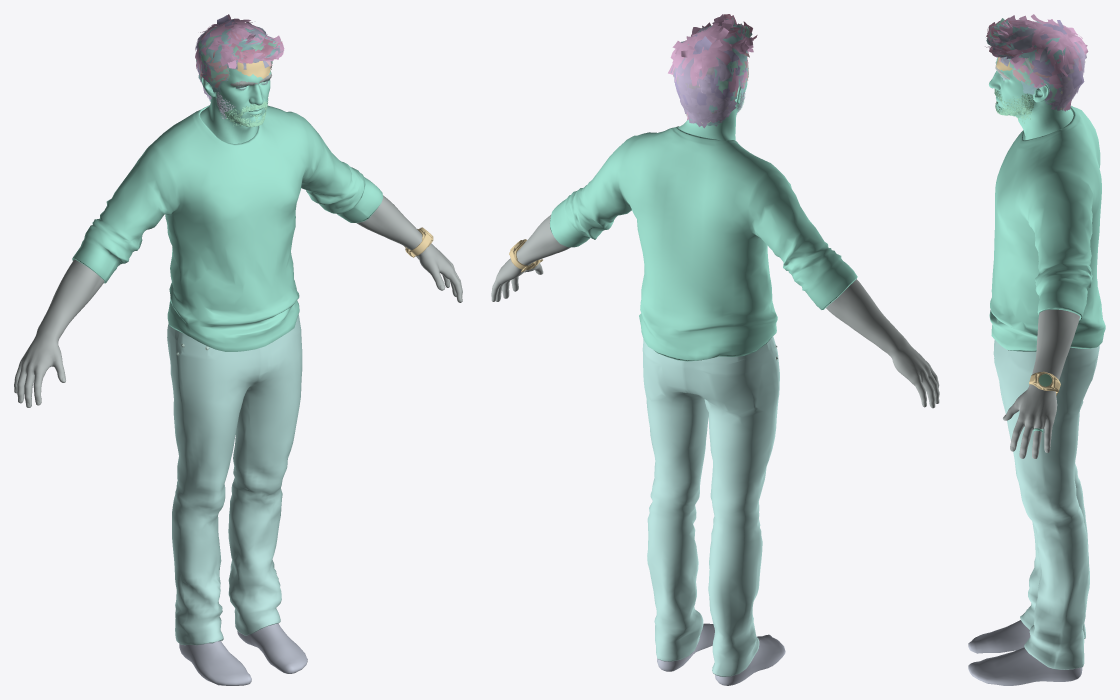
The model's file is mainCharacter.fbx.
3 views of the same model, side by side, from view 1: azimuth 30°, elevation 25°; view 2: azimuth 150°, elevation 25°; view 3: azimuth 270°, elevation 25° (orthographic).
Parts seen in each view (by area): view 1: hero-home-shirt, hero-home.004_hero-home.011, hero-home.006_hero-home.013, hero-home.003_hero-home.010, hero-office-1-head, hero-office-1-head.017, hero-office-1-head.019; view 2: hero-home-shirt, hero-home.004_hero-home.011, hero-home.006_hero-home.013, hero-office-1-head.017, hero-office-1-head.021, hero-home.003_hero-home.010, hero-office-1-head, hero-office-1-head.014, hero-office-1-head.019; view 3: hero-home-shirt, hero-home.004_hero-home.011, hero-home.006_hero-home.013, hero-home.003_hero-home.010, hero-office-1-head.017, hero-office-1-head, hero-office-1-head.019, hero-office-1-head.021, hero-office-1-head.014, hero-office-1-head.002, hero-office-1-head.018, hero-home.001_hero-home.008 (+3 smaller).
Boxes of the visible parts, left/top/right/bottom form: hero-home-shirt: left=72, top=105, right=383, bottom=351; hero-home.004_hero-home.011: left=167, top=314, right=302, bottom=645; hero-home.006_hero-home.013: left=14, top=195, right=462, bottom=407; hero-home.003_hero-home.010: left=179, top=623, right=307, bottom=685; hero-office-1-head: left=200, top=68, right=271, bottom=143; hero-office-1-head.017: left=195, top=14, right=284, bottom=82; hero-office-1-head.019: left=197, top=23, right=282, bottom=100; hero-home-shirt: left=550, top=126, right=857, bottom=361; hero-home.004_hero-home.011: left=642, top=336, right=779, bottom=676; hero-home.006_hero-home.013: left=491, top=215, right=939, bottom=408; hero-office-1-head.017: left=668, top=14, right=753, bottom=120; hero-office-1-head.021: left=670, top=57, right=743, bottom=128; hero-home.003_hero-home.010: left=657, top=623, right=785, bottom=685; hero-office-1-head: left=678, top=66, right=747, bottom=140; hero-office-1-head.014: left=673, top=34, right=746, bottom=105; hero-office-1-head.019: left=688, top=19, right=752, bottom=125; hero-home-shirt: left=989, top=105, right=1105, bottom=351; hero-home.004_hero-home.011: left=993, top=340, right=1099, bottom=669; hero-home.006_hero-home.013: left=1003, top=309, right=1079, bottom=458; hero-home.003_hero-home.010: left=968, top=620, right=1082, bottom=685; hero-office-1-head.017: left=985, top=14, right=1088, bottom=110; hero-office-1-head: left=989, top=57, right=1073, bottom=139; hero-office-1-head.019: left=986, top=20, right=1065, bottom=110; hero-office-1-head.021: left=1045, top=42, right=1086, bottom=111; hero-office-1-head.014: left=1004, top=20, right=1084, bottom=88; hero-office-1-head.002: left=994, top=89, right=1034, bottom=123; hero-office-1-head.018: left=987, top=27, right=1048, bottom=66; hero-home.001_hero-home.008: left=1029, top=371, right=1060, bottom=395.
Size of the model in its own units: 138 by 190 by 36.79.
